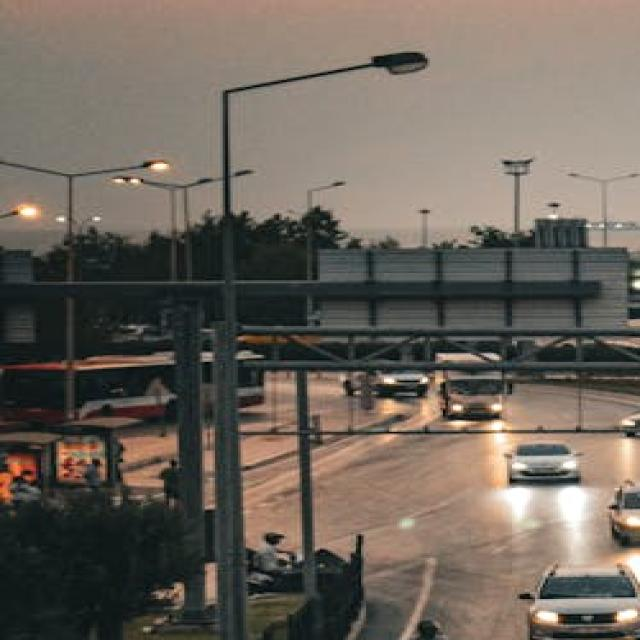bus: (0, 351, 267, 422)
car: (517, 561, 640, 640), (501, 439, 585, 482), (341, 371, 428, 398), (606, 477, 640, 544), (622, 400, 640, 436)
motorbike: (391, 619, 455, 640)
van: (434, 353, 504, 418)
